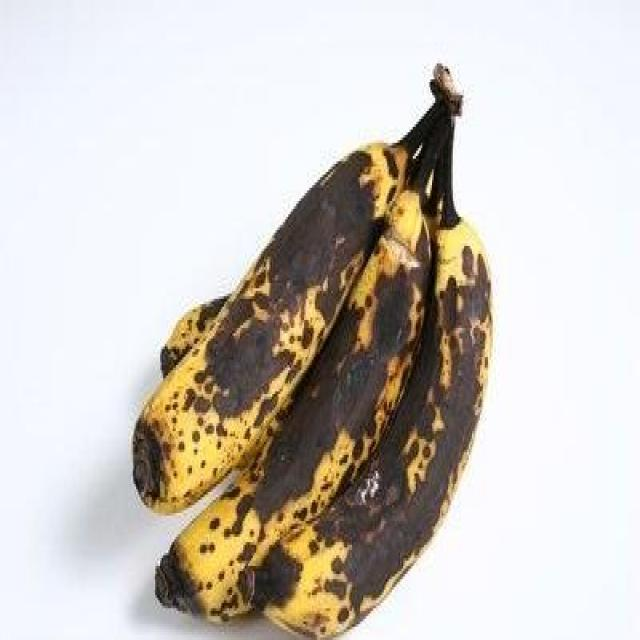organic: (131, 66, 494, 640)
